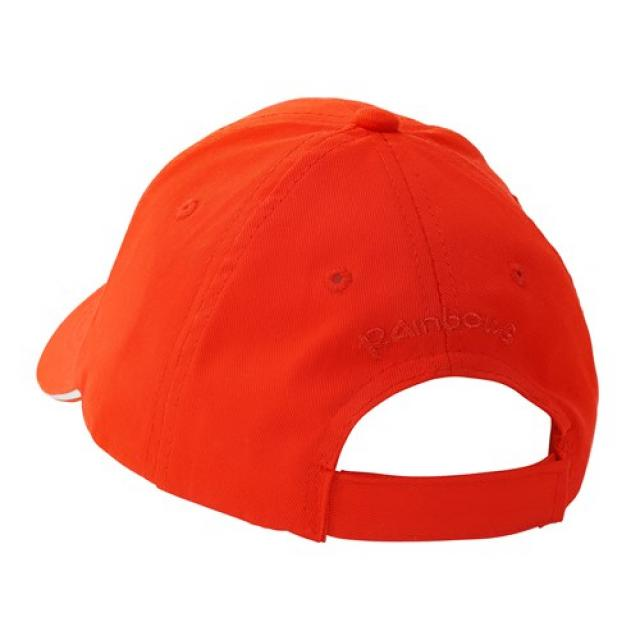Cap: (26, 77, 604, 590)
